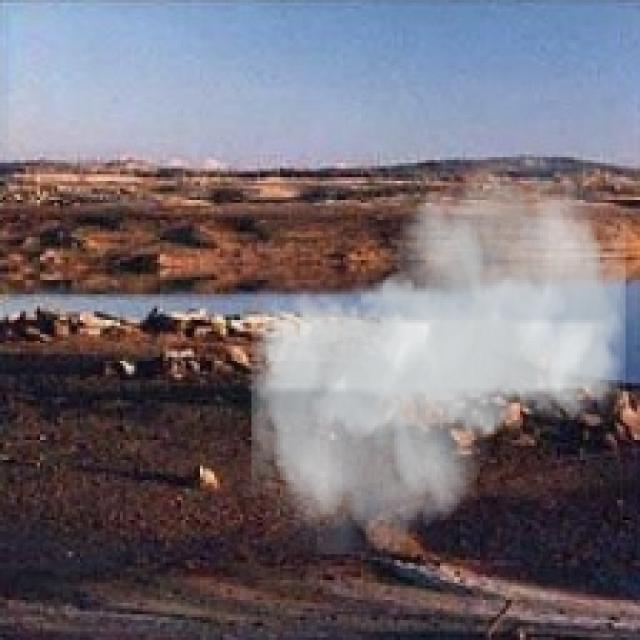smoke: (251, 157, 626, 554)
